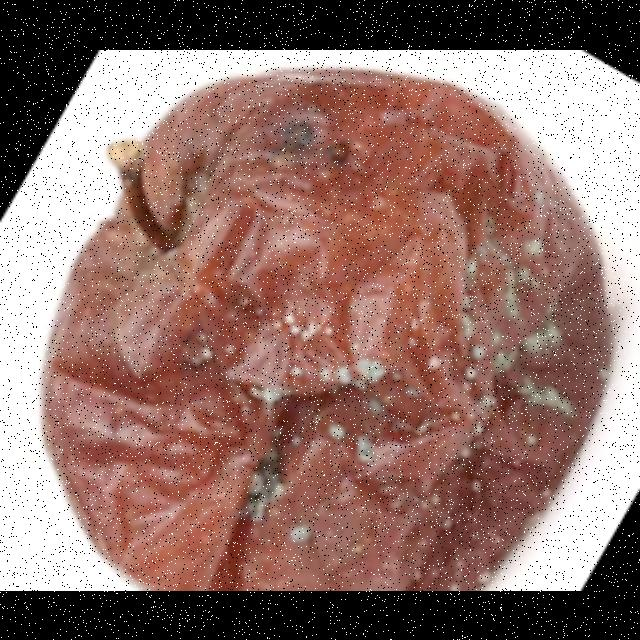Apel Tidak Segar: (32, 59, 620, 591)
